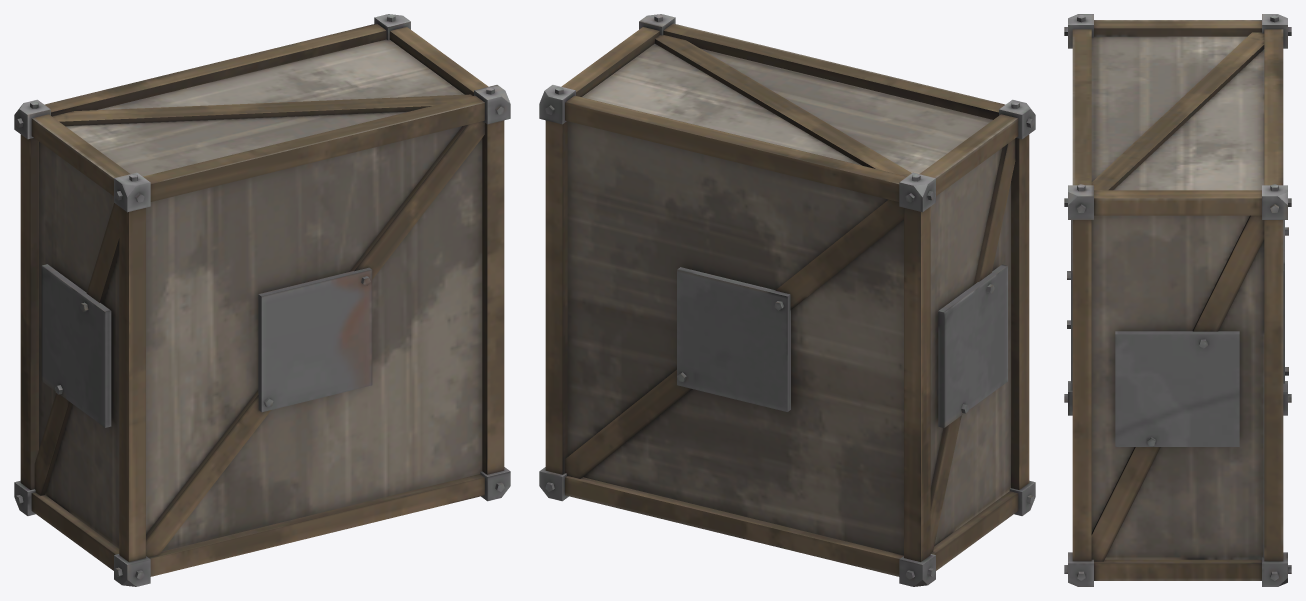
Rendered from BuildingCrate1x2x2.glb.
3 renders of one model, left to right at view 1: azimuth 30°, elevation 25°; view 2: azimuth 150°, elevation 25°; view 3: azimuth 270°, elevation 25°, orthographic. The views are drawn at different scales.
Visible parts, largest first — view 1: BuildingCrate1x2x2; view 2: BuildingCrate1x2x2; view 3: BuildingCrate1x2x2.
Part boxes in pixels (x1,y1,x2,y2): BuildingCrate1x2x2: (14,14,510,586); BuildingCrate1x2x2: (539,14,1035,586); BuildingCrate1x2x2: (1064,14,1291,586).
Bounding box in the file's own units: 1.3 × 1.3 × 0.6744.
1 material, 1 textured.
